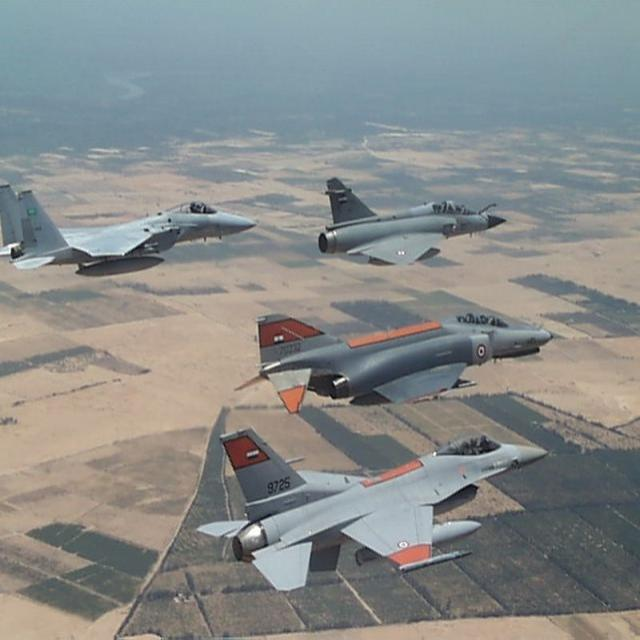MIL_Plane: (196, 426, 549, 593), (234, 310, 555, 414), (1, 184, 257, 278), (317, 176, 508, 266)
